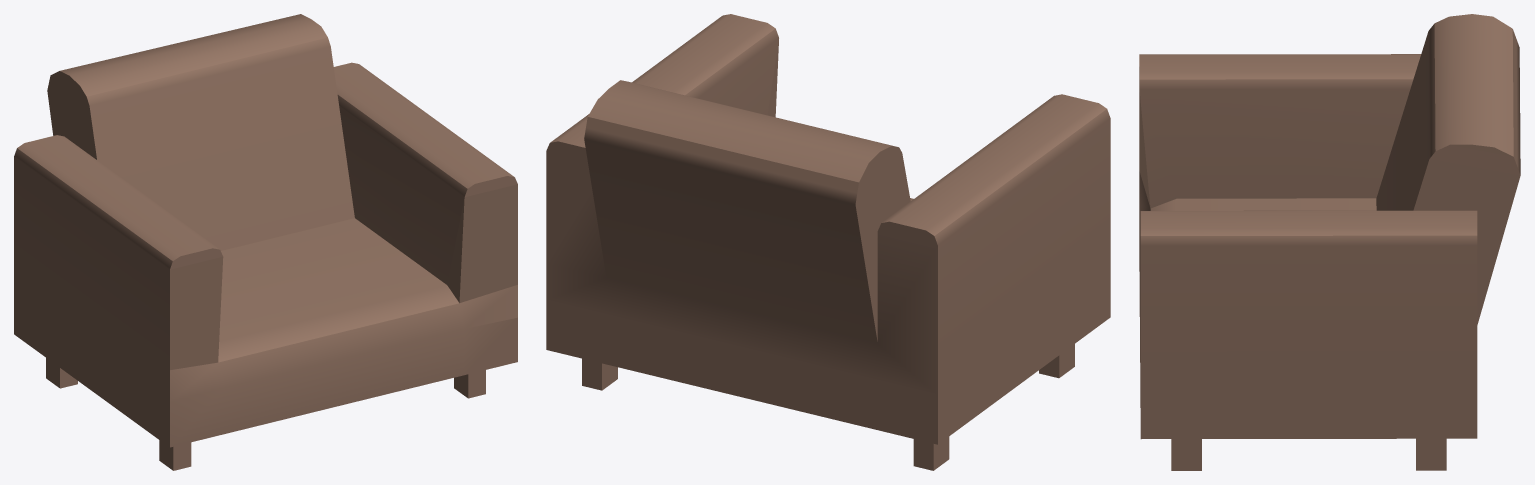
Rendered from Sillon.fbx.
3 renders of one model, left to right at view 1: azimuth 30°, elevation 25°; view 2: azimuth 150°, elevation 25°; view 3: azimuth 270°, elevation 25°, orthographic. The views are drawn at different scales.
Visible parts, largest first — view 1: pCube107; view 2: pCube107; view 3: pCube107.
Part boxes in pixels (left/top/right/bottom): pCube107: left=14, top=14, right=517, bottom=470; pCube107: left=546, top=14, right=1110, bottom=470; pCube107: left=1139, top=14, right=1520, bottom=470.
Bounding box in the file's own units: 4.73 × 3.69 × 4.11.
